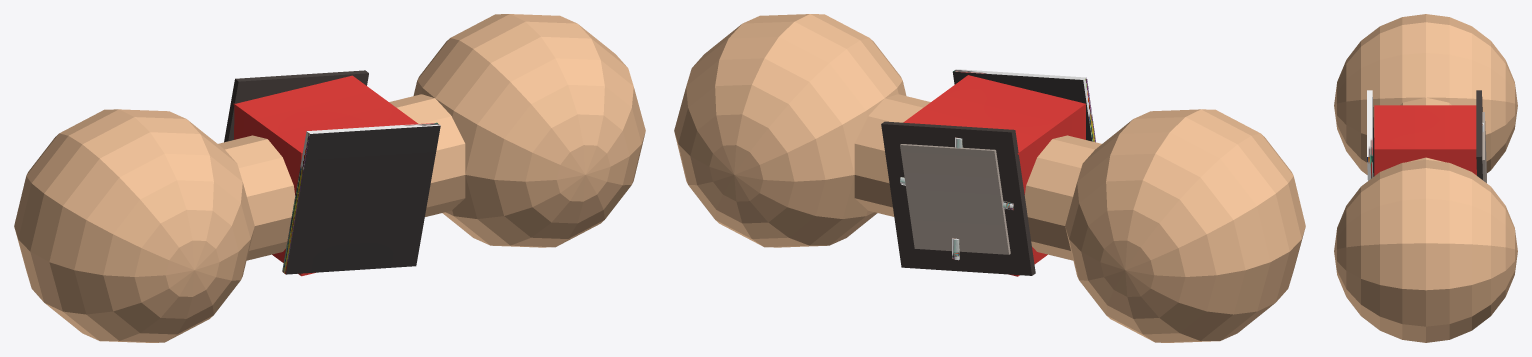
Rendered from HuesoBombacolor.fbx.
3 views of the same model, side by side, from view 1: azimuth 30°, elevation 25°; view 2: azimuth 150°, elevation 25°; view 3: azimuth 270°, elevation 25° (orthographic). The views are drawn at different scales.
Visible parts, largest first — view 1: Cube; view 2: Cube; view 3: Cube.
Part boxes in pixels (left/top/right/bottom): Cube: left=14, top=14, right=645, bottom=342; Cube: left=674, top=14, right=1305, bottom=342; Cube: left=1334, top=14, right=1517, bottom=342.
Size of the model in its own units: 138 by 47.96 by 47.96.
1 material, 1 textured.
